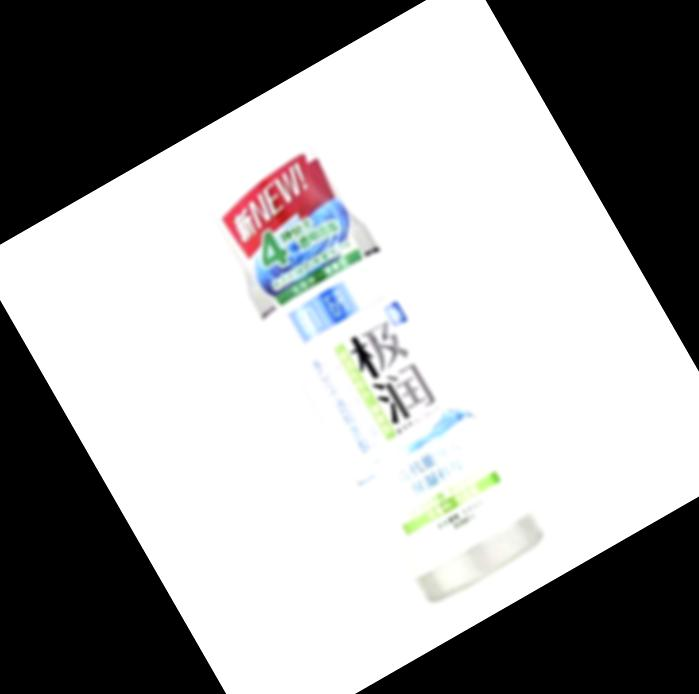cosmetic: (188, 124, 540, 602)
